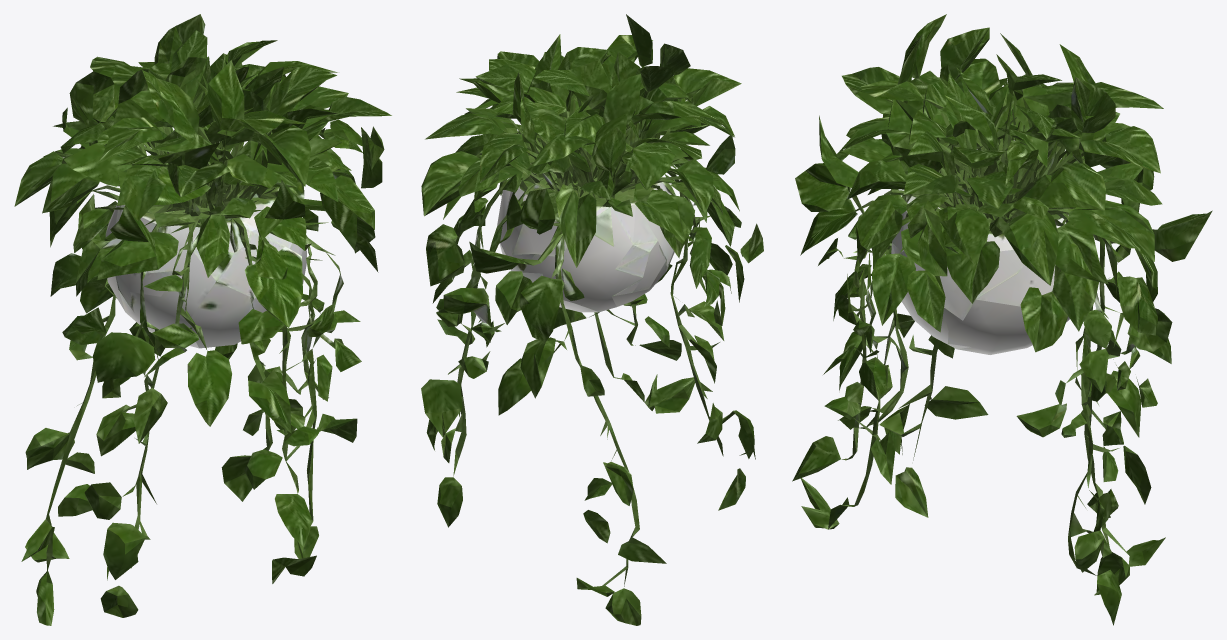
Rendered from wall_planter.glb.
The picture shows the model from 3 angles, left to right: view 1: azimuth 30°, elevation 25°; view 2: azimuth 150°, elevation 25°; view 3: azimuth 270°, elevation 25°; orthographic projection. The views are drawn at different scales.
Visible parts, largest first — view 1: 0; view 2: 0; view 3: 0.
Part boxes in pixels (bbox=[...]): 0: bbox=[14, 14, 391, 625]; 0: bbox=[421, 14, 763, 625]; 0: bbox=[792, 14, 1212, 625].
Size of the model in its own units: 0.4433 by 0.8 by 0.5014.
1 material, 1 textured.
